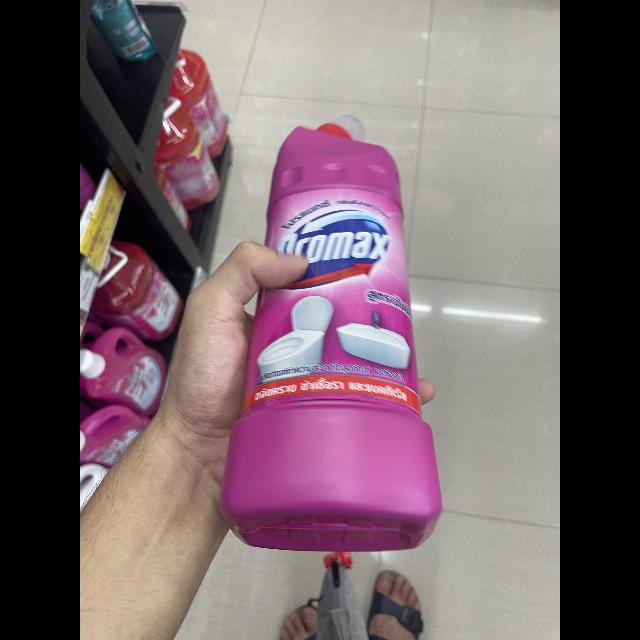chemical_plastic_bottle: (217, 110, 447, 550)
